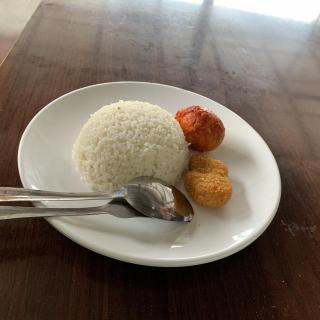Nasi: (74, 101, 188, 196)
